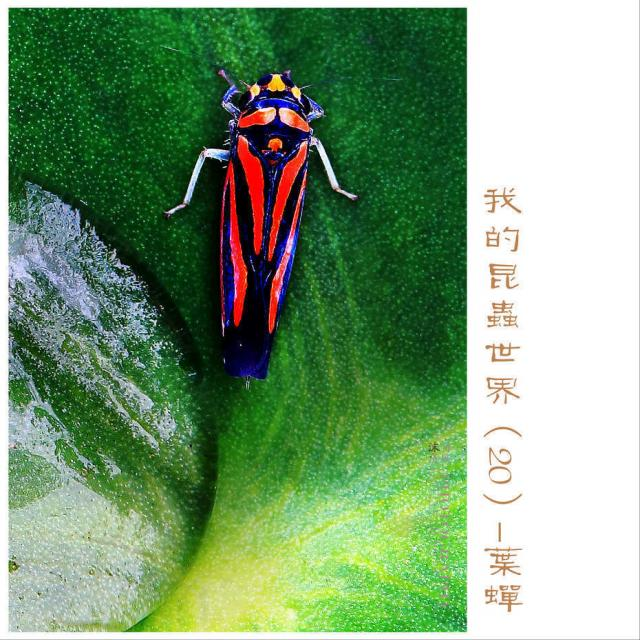Yechan: (147, 37, 371, 390)
